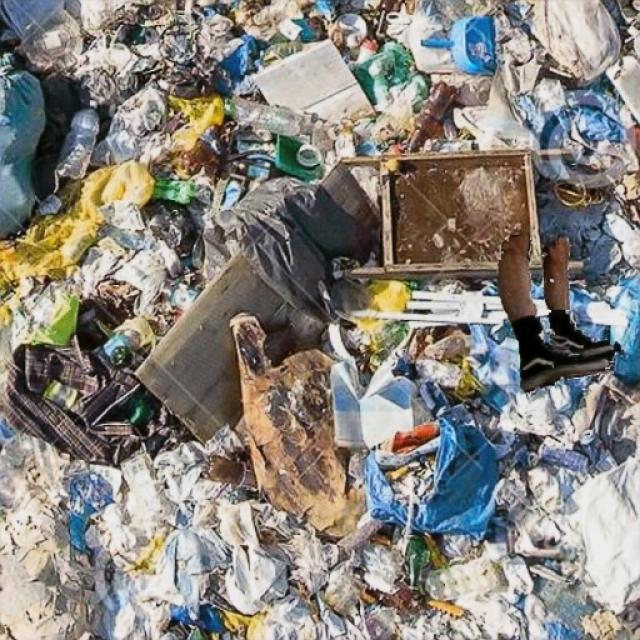Person in Rubble: (498, 232, 622, 392)
